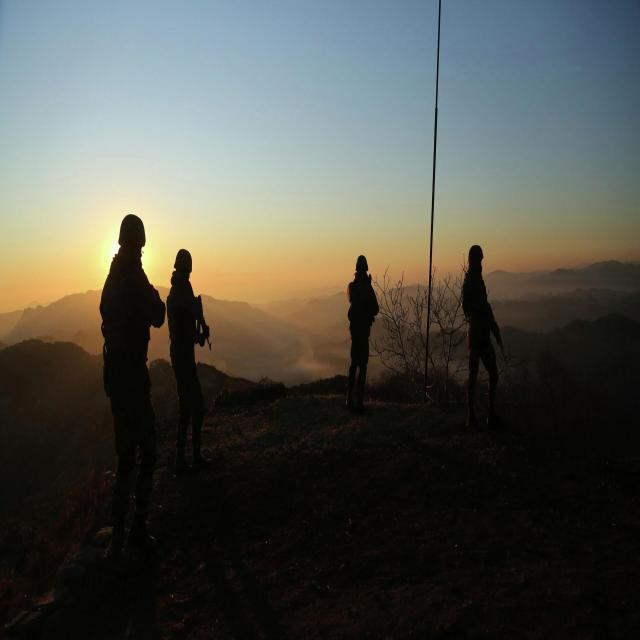Militant: (61, 176, 166, 592), (157, 210, 213, 509), (454, 231, 509, 449), (345, 247, 386, 432)
